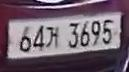3: (67, 22, 80, 50)
4: (33, 25, 46, 51)
5: (102, 18, 114, 46)
6: (17, 26, 33, 55), (80, 19, 91, 49)
9: (90, 20, 102, 47)
거: (46, 24, 60, 50)
